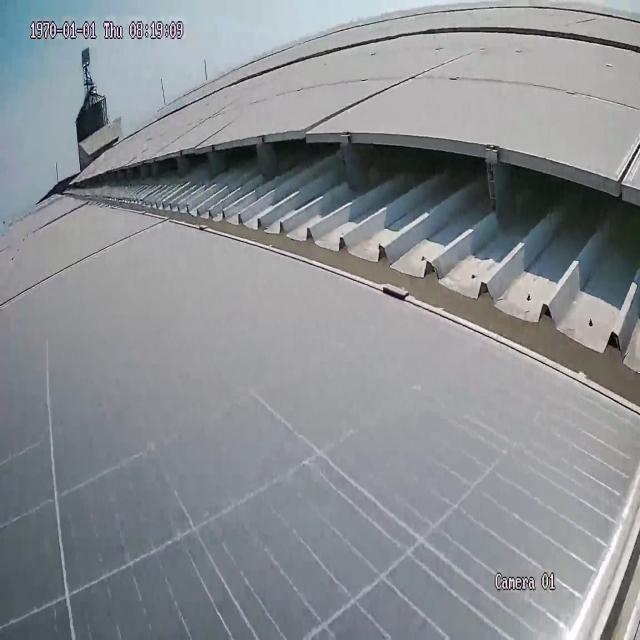interior panel: (313, 50, 459, 128)
outher panel: (71, 134, 640, 419)
